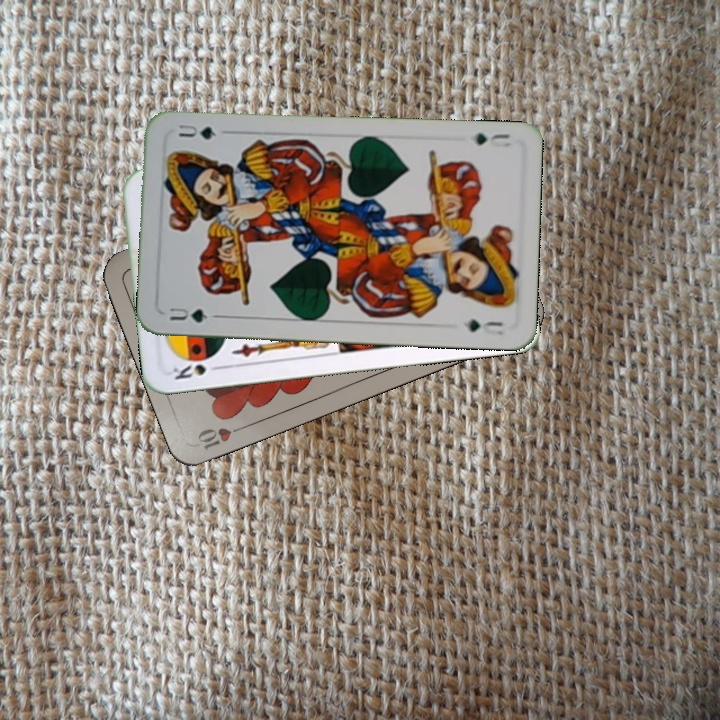GU: (165, 303, 220, 325), (470, 128, 514, 150)
H10: (193, 420, 250, 453)
SK: (168, 360, 226, 382)
